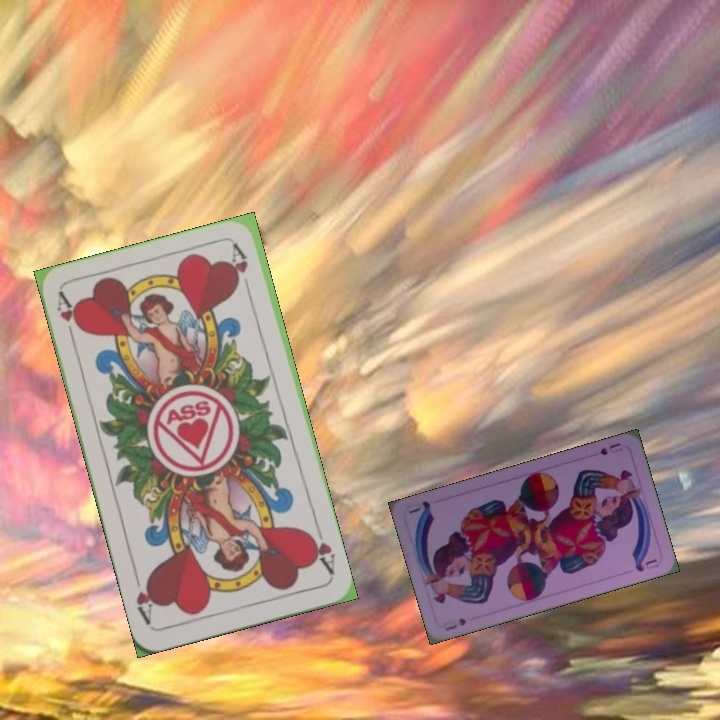HA: (303, 521, 338, 578), (52, 289, 85, 348)
SU: (596, 439, 625, 458), (441, 614, 469, 633)
